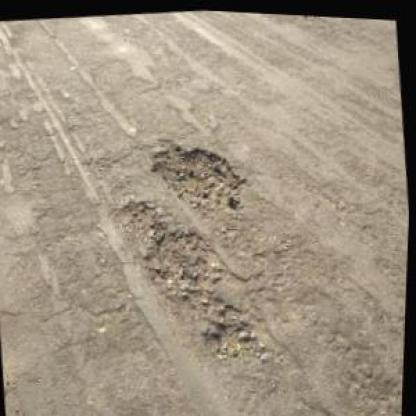pothole: (114, 186, 273, 370), (147, 126, 252, 222)
